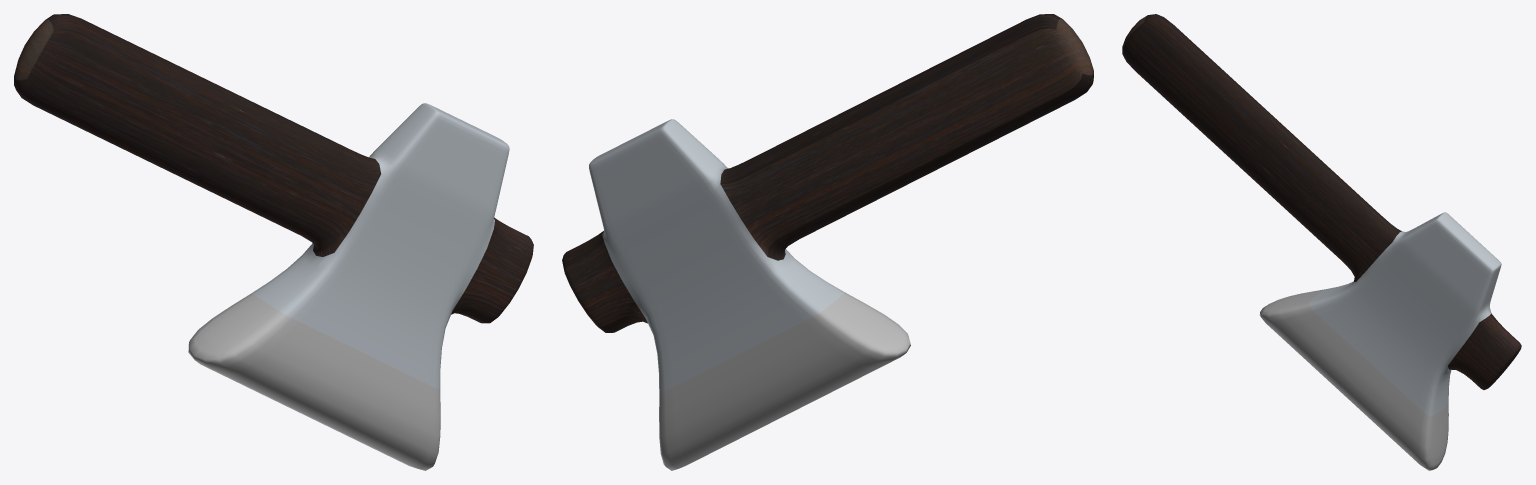
The model's file is Axe.fbx.
The picture shows the model from 3 angles, left to right: view 1: azimuth 30°, elevation 25°; view 2: azimuth 150°, elevation 25°; view 3: azimuth 330°, elevation 25°; orthographic projection. The views are drawn at different scales.
Parts seen in each view (by area): view 1: pCube7; view 2: pCube7; view 3: pCube7.
Boxes of the visible parts, x1=… form: pCube7: x1=14, y1=14, x2=533, y2=470; pCube7: x1=562, y1=14, x2=1093, y2=470; pCube7: x1=1122, y1=14, x2=1521, y2=470.
Size of the model in its own units: 3.33 by 3.31 by 0.4842.
3 materials, 1 textured.
